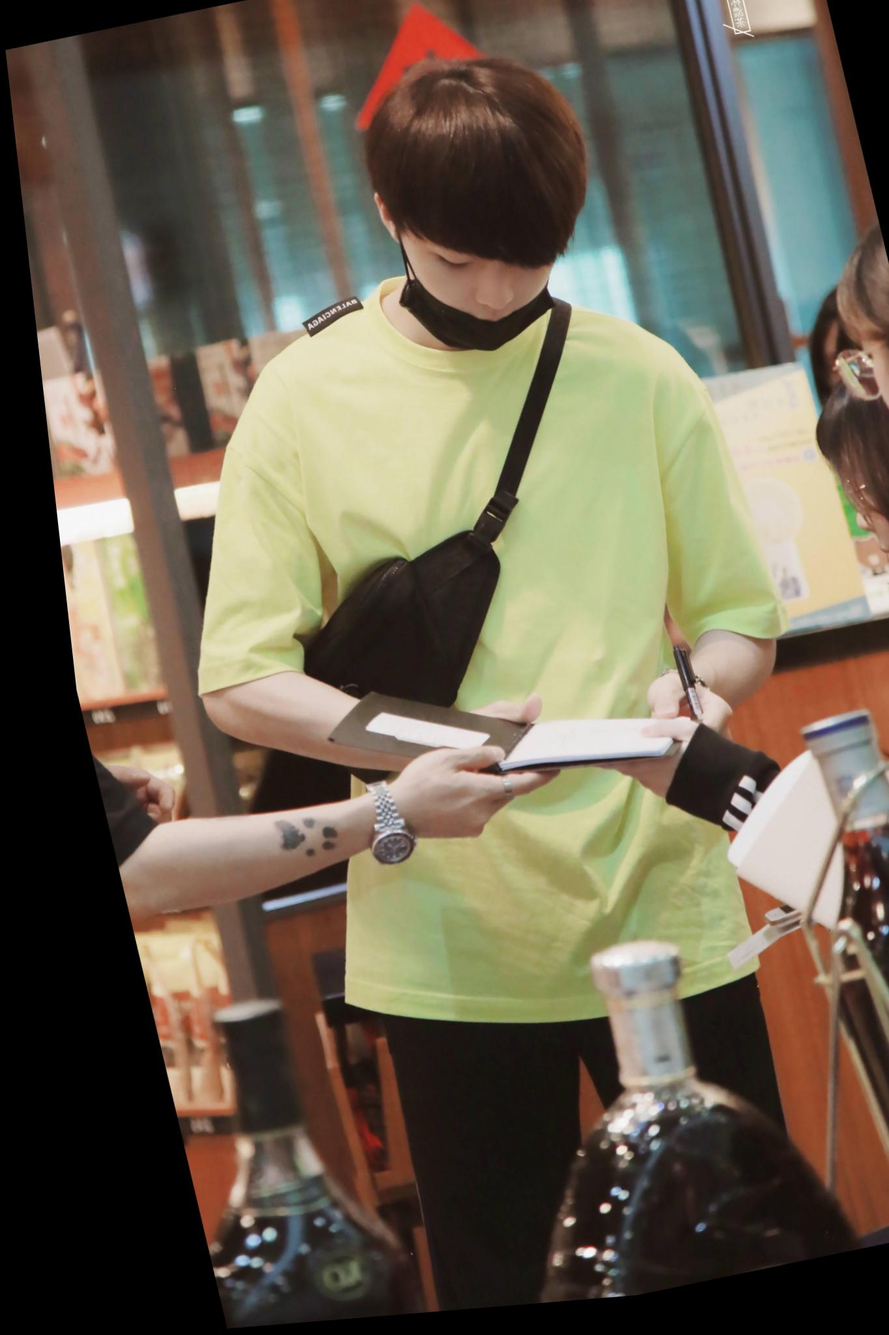WRONG: (386, 199, 564, 371)
